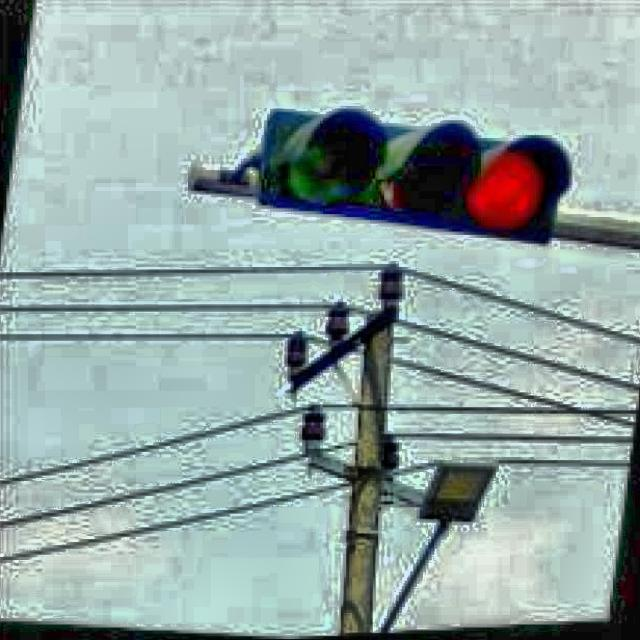red: (266, 104, 566, 243)
